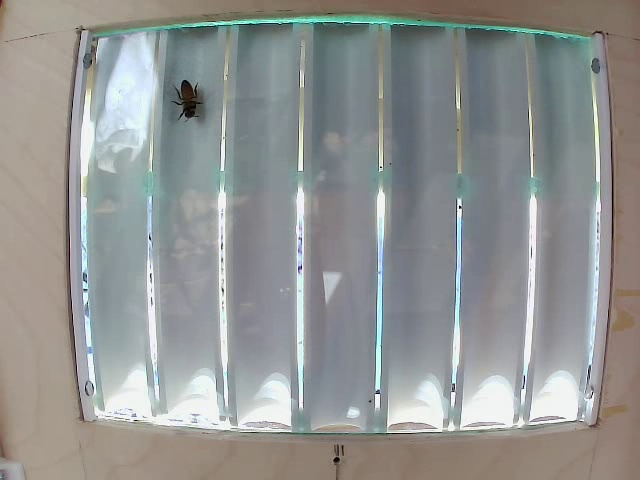bee: (163, 71, 207, 128)
